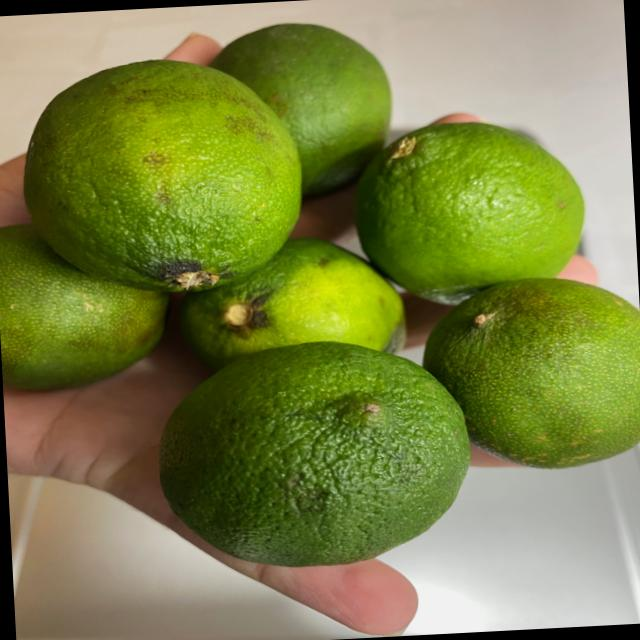lemon: (0, 4, 640, 578)
